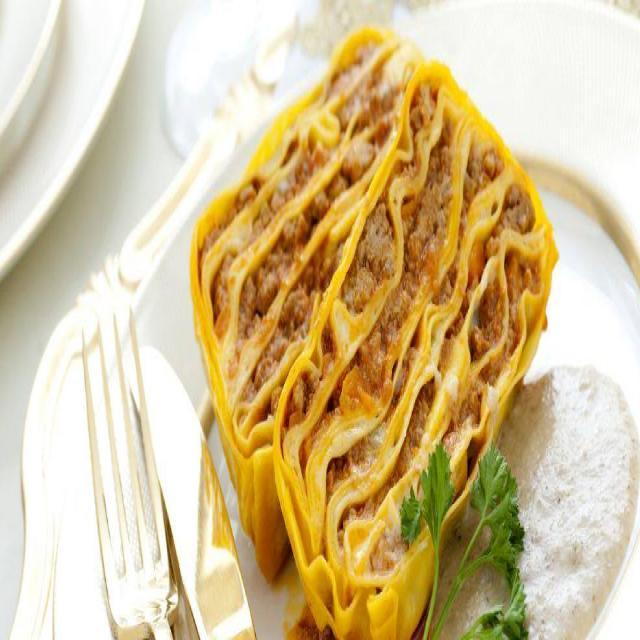Pasta al ragu: (190, 8, 582, 619)
